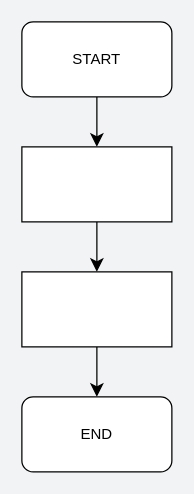
This 194x494 diagram has some shape labels left out. Each missing label, with the centre of its shape:
def greet(name): print("Hi " + name): pixel 96 184
greet("Alex"): pixel 96 309
